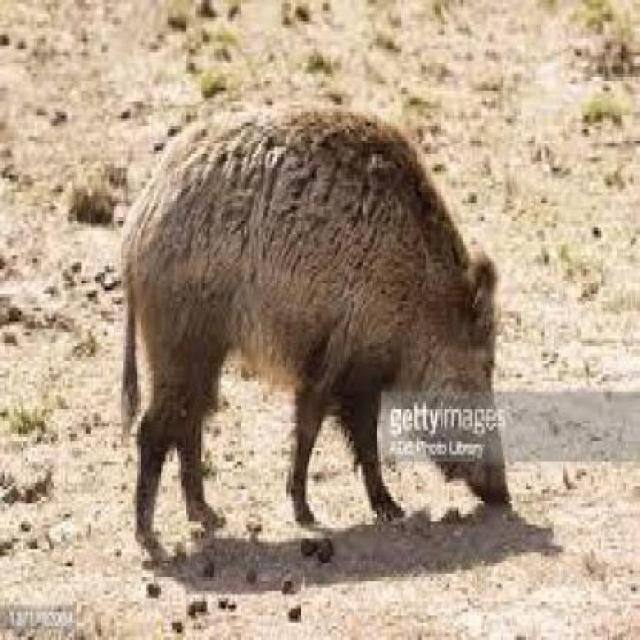wildboar: (107, 102, 511, 561)
